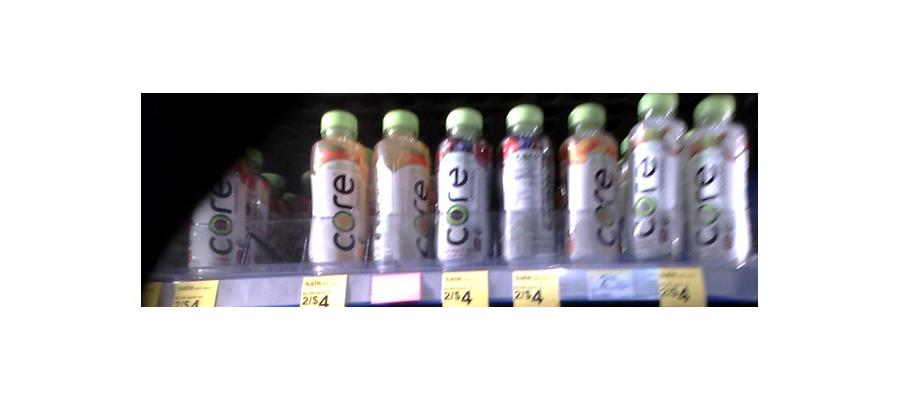bottle: (303, 110, 371, 276), (687, 98, 753, 265), (625, 91, 689, 263), (182, 140, 264, 273), (432, 106, 497, 273), (559, 105, 624, 269), (369, 111, 430, 271), (501, 103, 557, 265)
